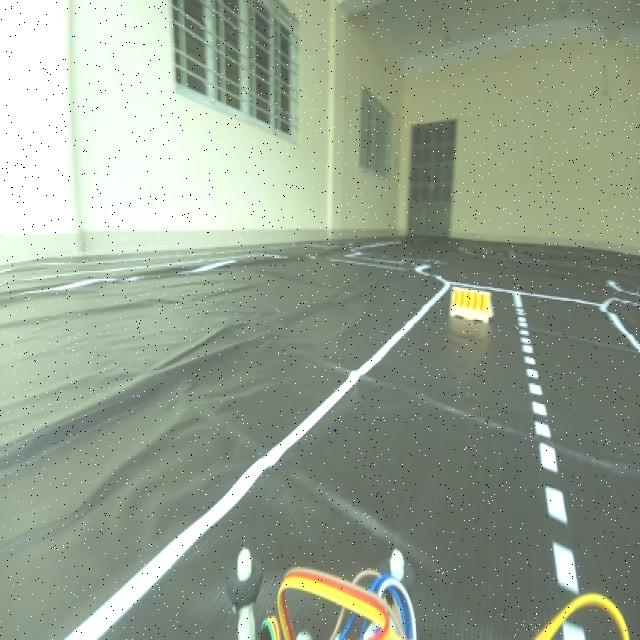roadblock: (448, 278, 493, 319)
